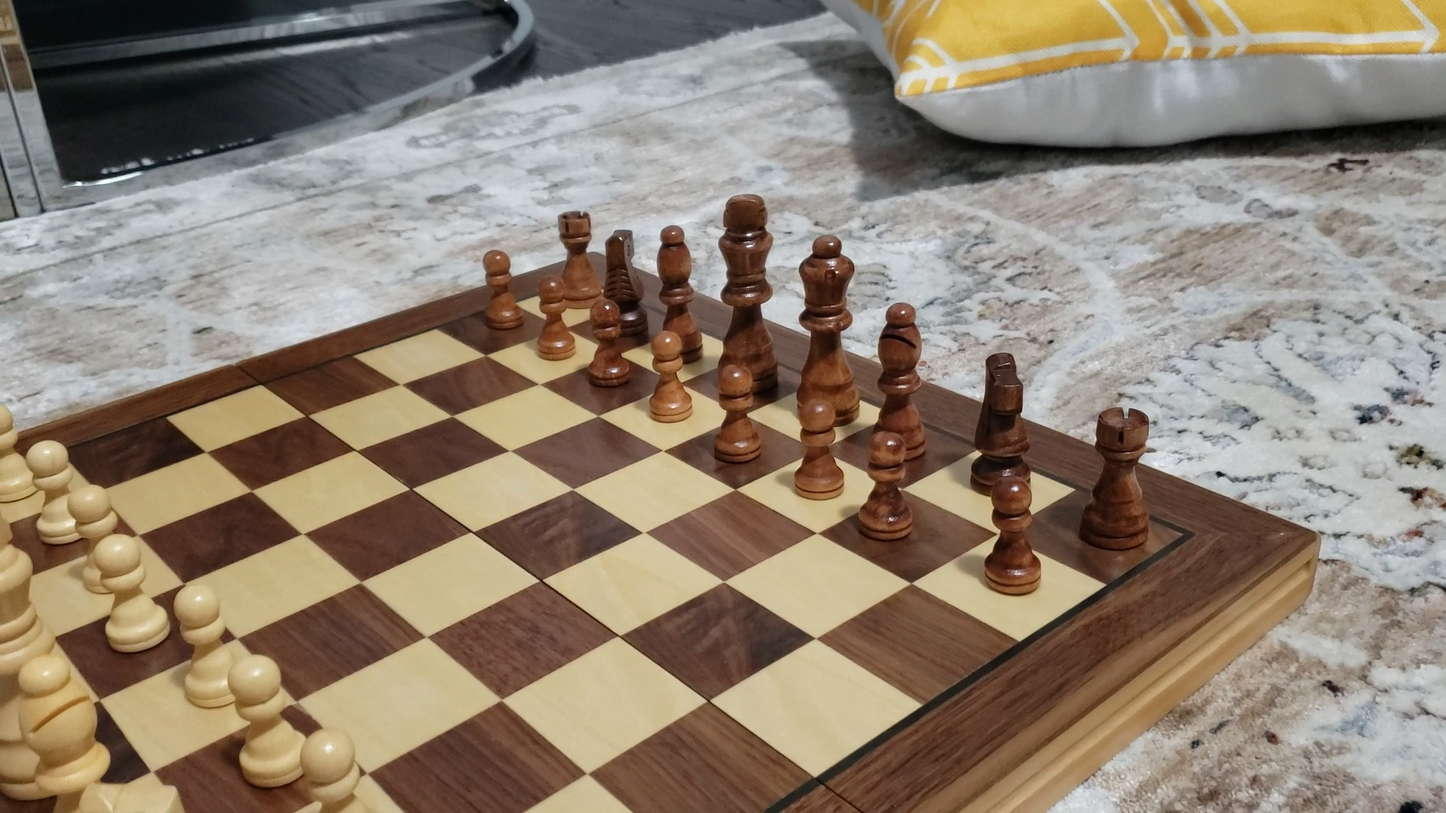black-bishop: (874, 297, 926, 460), (656, 222, 702, 360)
black-king: (715, 190, 778, 399)
black-knight: (970, 350, 1027, 489), (602, 226, 645, 339)
black-pawn: (983, 470, 1040, 596), (857, 427, 913, 543), (712, 360, 761, 464), (794, 397, 843, 499), (586, 295, 631, 389), (647, 329, 691, 423), (480, 246, 523, 332), (534, 274, 576, 361)
black-queen: (794, 230, 860, 426)
black-rook: (1081, 404, 1151, 551), (555, 207, 599, 312)
white-bishop: (7, 651, 114, 801)
white-pawn: (88, 532, 172, 657), (171, 580, 240, 710), (63, 482, 128, 597), (20, 438, 88, 547), (296, 724, 367, 812)
